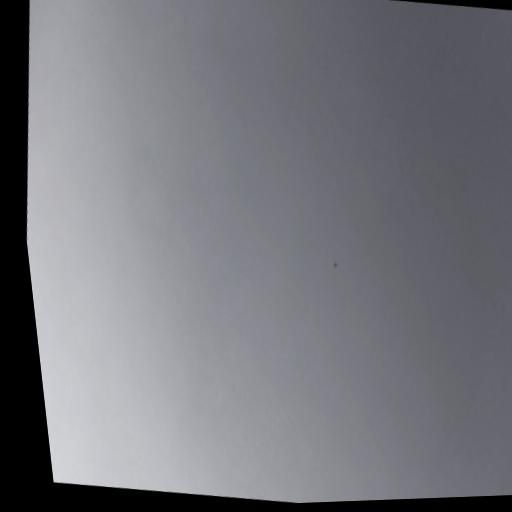drones: (332, 260, 339, 269)
